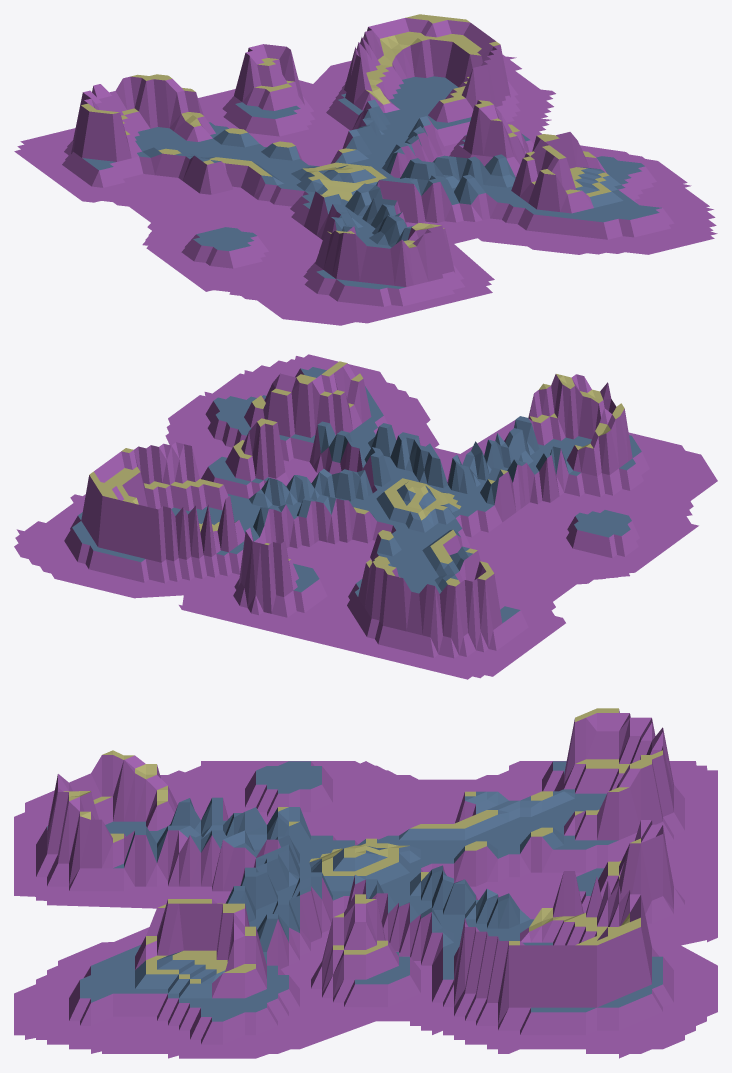
The model's file is searchIsland.fbx.
3 renders of one model, top to bottom at view 1: azimuth 30°, elevation 25°; view 2: azimuth 150°, elevation 25°; view 3: azimuth 270°, elevation 25°, orthographic. The views are drawn at different scales.
Parts seen in each view (by area): view 1: Plane; view 2: Plane; view 3: Plane.
Part boxes in pixels (x1,y1,x2,y2): Plane: (14,14,717,325); Plane: (14,354,717,679); Plane: (14,708,717,1058).
Size of the model in its own units: 16 by 1.9 by 16.
